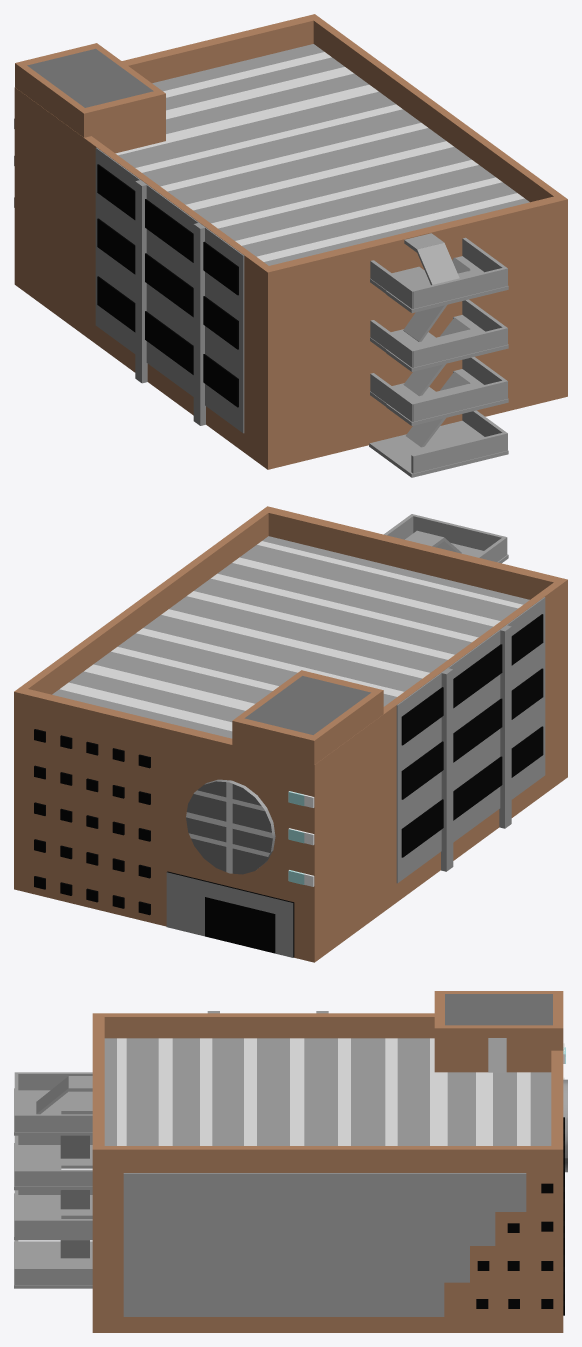
The picture shows the model from 3 angles, top to bottom: view 1: azimuth 30°, elevation 25°; view 2: azimuth 150°, elevation 25°; view 3: azimuth 270°, elevation 25°; orthographic projection. The views are drawn at different scales.
Visible parts, largest first — view 1: pCube1, pCube50, pCube48, pCube82, pCube83, pCube84, pCube81, pCube80, pCube63, pCube75, pCube78, pCube70 (+17 smaller); view 2: pCube1, pCube50, pCube48, pCube31, pCylinder1, pCube82, pCube84, pCube83, pCube80, pCube81, pCube70; view 3: pCube1, pCube2, pCube3, pCube4, pCube5, pCube48, pCube69, pCube76, pCube79, pCube73, pCube63, pCube57 (+13 smaller).
Part boxes in pixels (x1,y1,x2,y2): pCube1: (14,14,567,469); pCube50: (95,147,244,433); pCube48: (15,43,165,153); pCube82: (97,164,238,295); pCube83: (97,218,238,349); pCube84: (97,276,238,407); pCube81: (193,223,205,425); pCube80: (135,180,147,383); pCube63: (369,420,508,477); pCube75: (412,380,507,421); pCube78: (411,432,507,473); pCube70: (413,267,507,308); pCube1: (14,506,567,962); pCube50: (396,597,545,883); pCube48: (232,670,383,788); pCube31: (166,871,294,957); pCylinder1: (186,779,275,874); pCube82: (401,614,543,745); pCube84: (401,726,543,857); pCube83: (401,668,543,799); pCube80: (441,668,453,871); pCube81: (499,625,511,828); pCube70: (410,514,505,550); pCube1: (92,1013,563,1332); pCube2: (123,1173,526,1211); pCube3: (123,1207,495,1245); pCube4: (123,1244,469,1282); pCube5: (123,1278,444,1316); pCube48: (434,991,563,1072); pCube69: (14,1114,92,1131); pCube76: (14,1219,92,1236); pCube79: (14,1267,92,1284); pCube73: (14,1169,92,1186); pCube63: (14,1241,92,1288); pCube57: (14,1143,61,1190).
Size of the model in its own units: 356 by 250 by 598.
